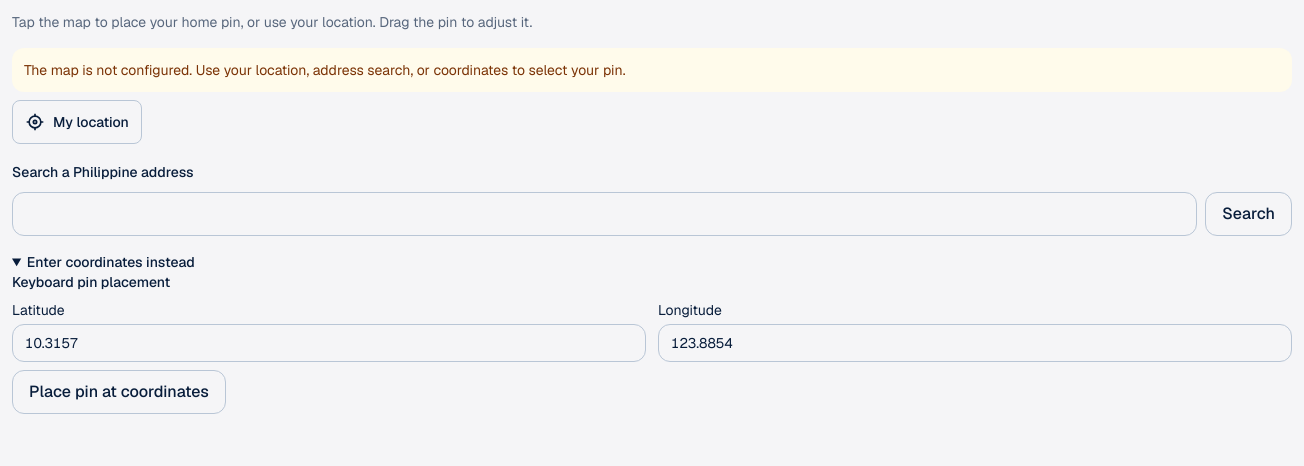
Test: ResidentialMap fallbacks › does not replace a later manual pin with a delayed device location
Click the button with aria-label "Use my location" at (77, 122), box [12,100,142,144]
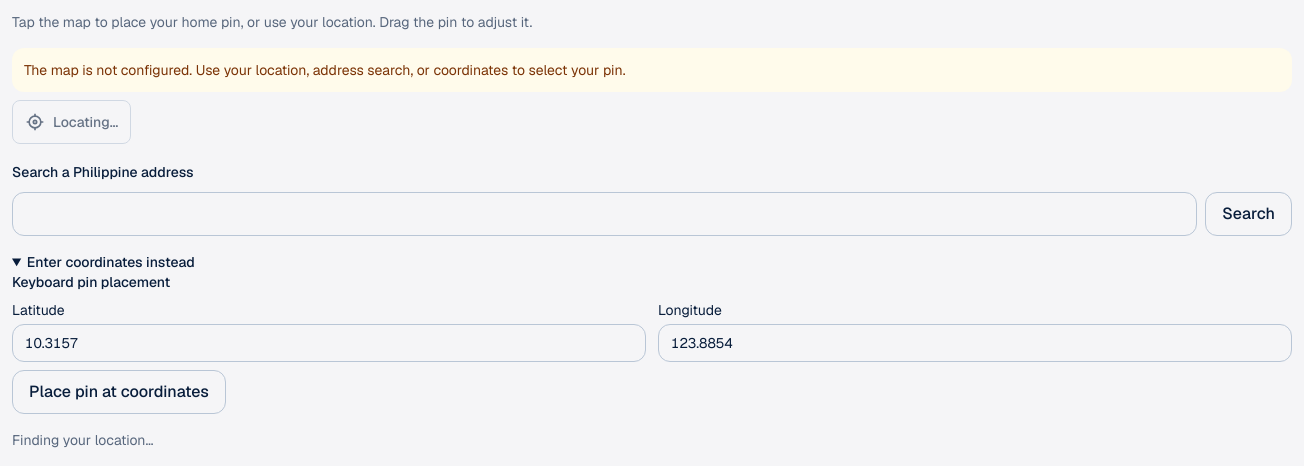
Replace the text in the field labelled "Latitude" with "10.32" at (329, 343), box [12,324,646,362]
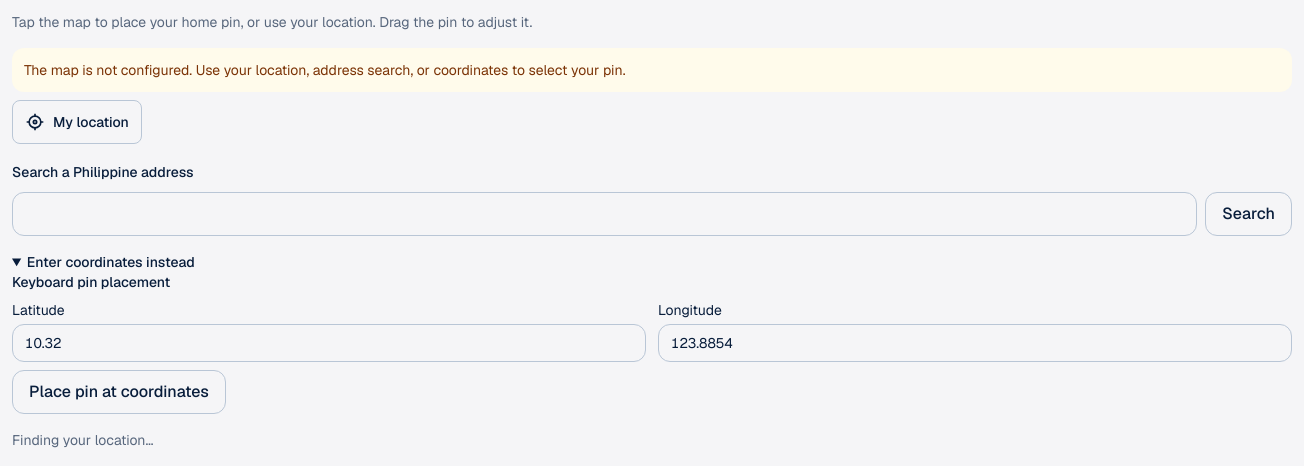
Replace the text in the field labelled "Longitude" with "123.90" at (975, 343), box [658,324,1292,362]
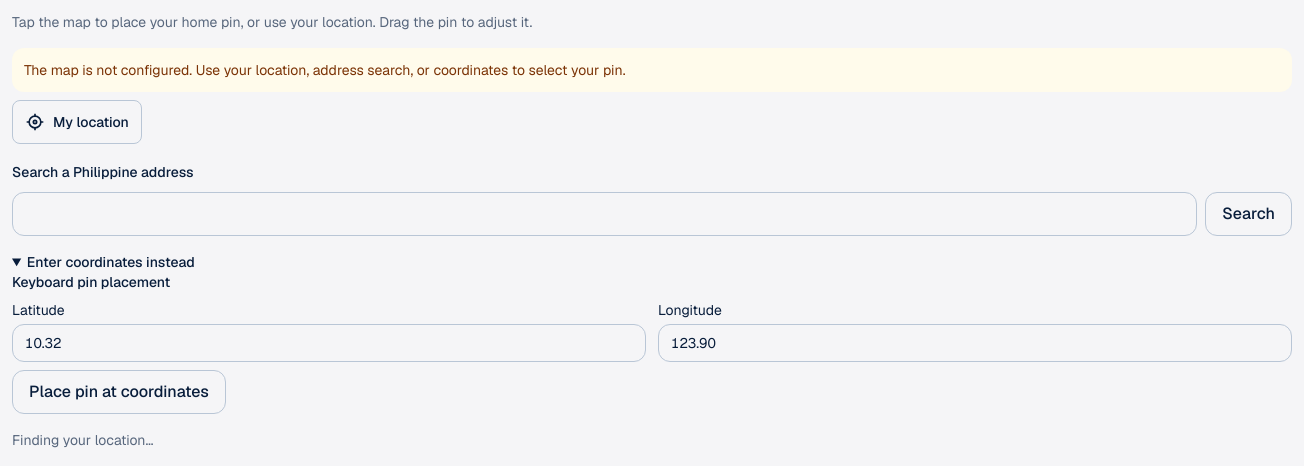
Click the button "Place pin at coordinates" at (119, 392), box [12,370,226,414]
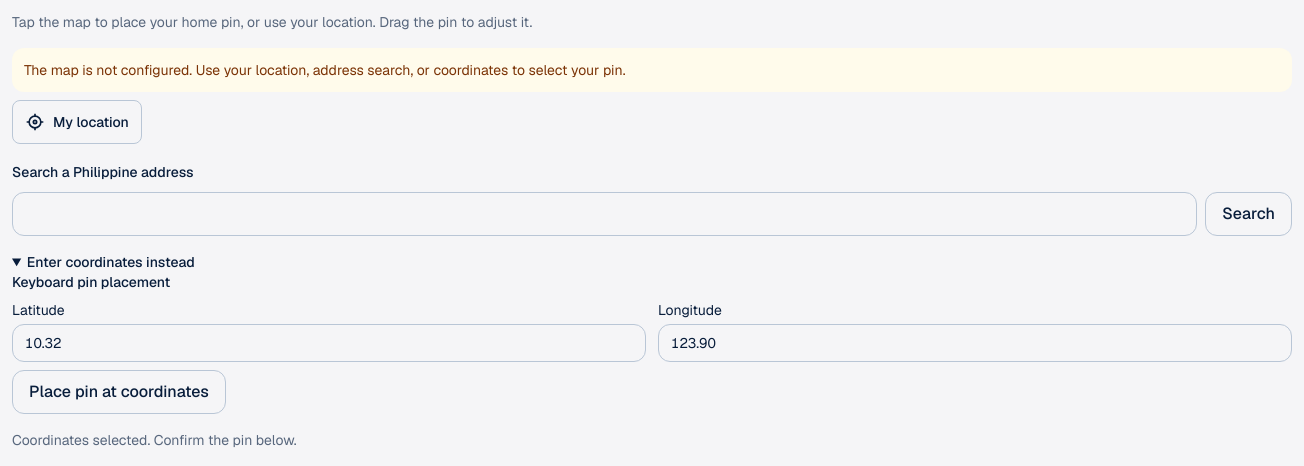
Now the text "Coordinates selected. Confirm the pin below." is shown, box [12,431,297,449]
